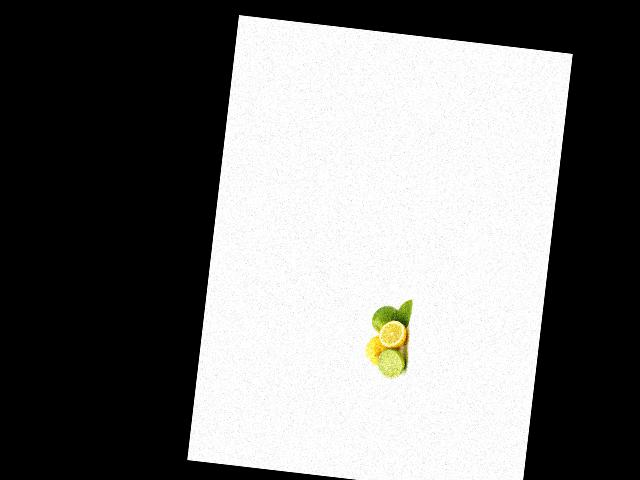lemon: (362, 334, 390, 367)
